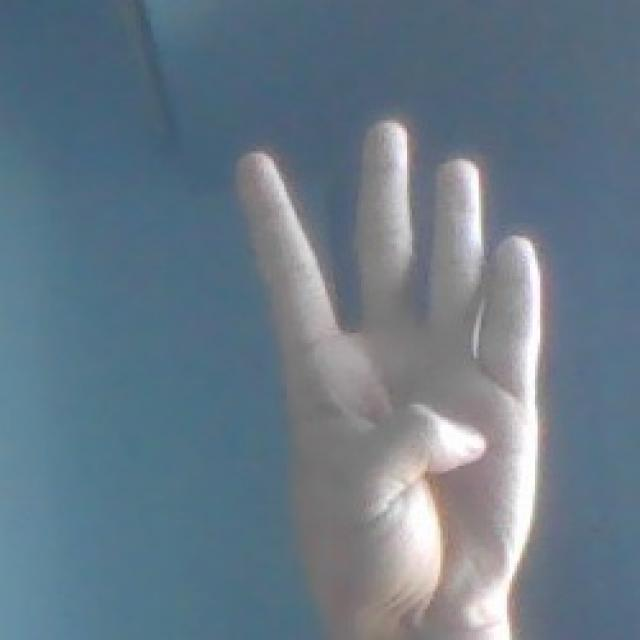Numeric-4: (240, 116, 544, 633)
